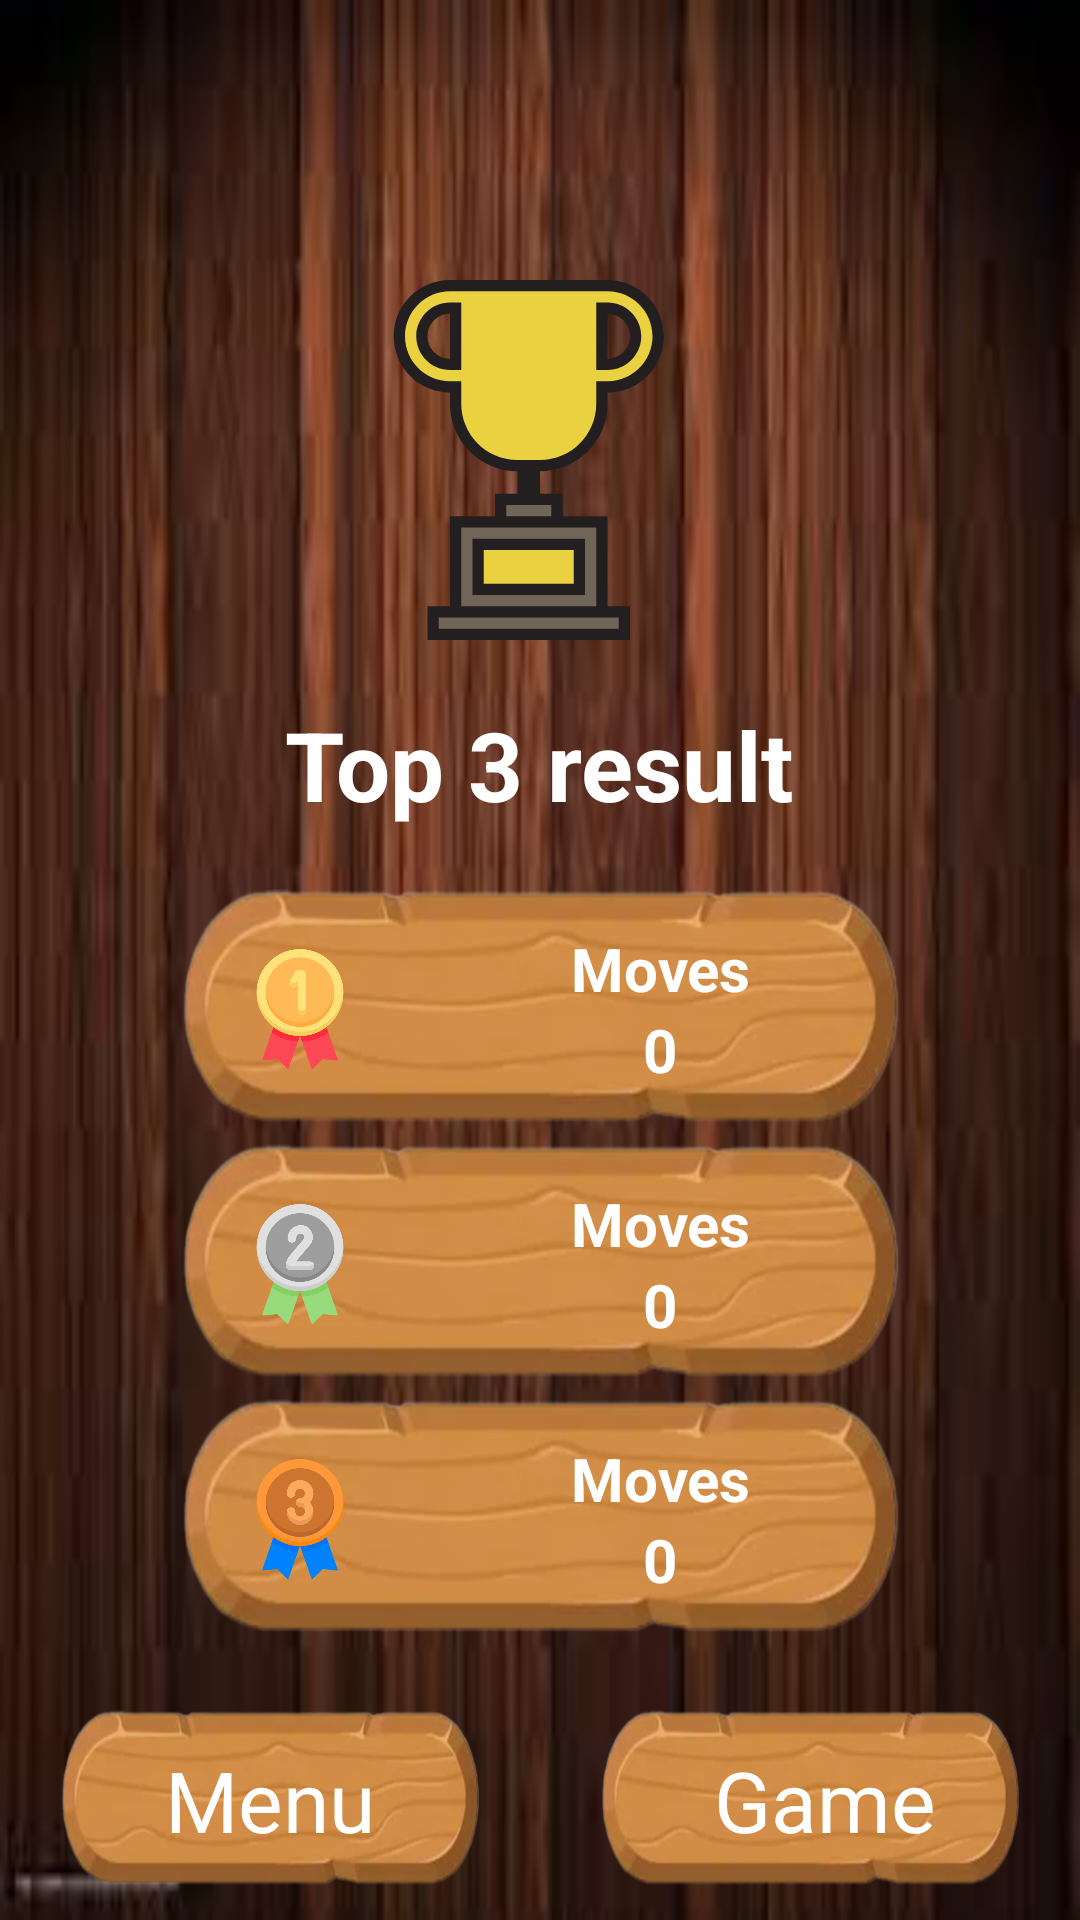

Named icons in this screenshot (1080*1920) and their bounding boxes, detection(x1, y1, x2, y2):
win: detection(360, 280, 718, 640)
